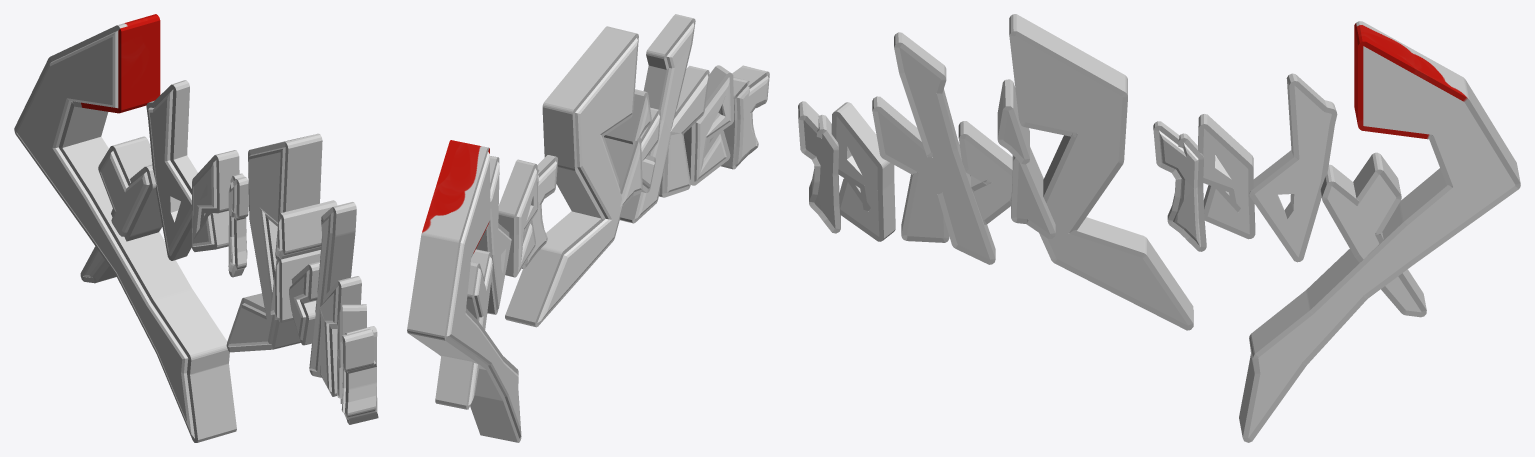
Rendered from sign.fbx.
3 views of the same model, side by side, from view 1: azimuth 30°, elevation 25°; view 2: azimuth 150°, elevation 25°; view 3: azimuth 270°, elevation 25° (orthographic). The views are drawn at different scales.
Parts seen in each view (by area): view 1: Plane.026, Plane.024; view 2: Plane.026, Plane.024; view 3: Plane.024, Plane.026.
Boxes of the visible parts, x1,y1,x2,y2 form: Plane.026: [14, 14, 378, 442]; Plane.024: [16, 30, 377, 438]; Plane.026: [407, 14, 769, 442]; Plane.024: [446, 22, 768, 438]; Plane.024: [803, 36, 1515, 437]; Plane.026: [798, 14, 1520, 442].
Bounding box in the file's own units: 1.41 × 4.76 × 7.83.
